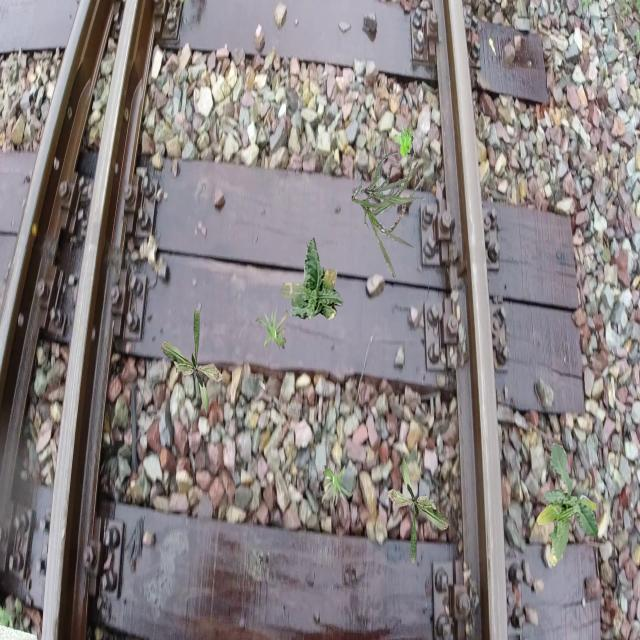Plant: (352, 153, 425, 278), (536, 443, 598, 568), (386, 452, 450, 564), (161, 308, 225, 420), (280, 237, 344, 320), (255, 304, 288, 350), (321, 464, 354, 510), (393, 125, 414, 158)
